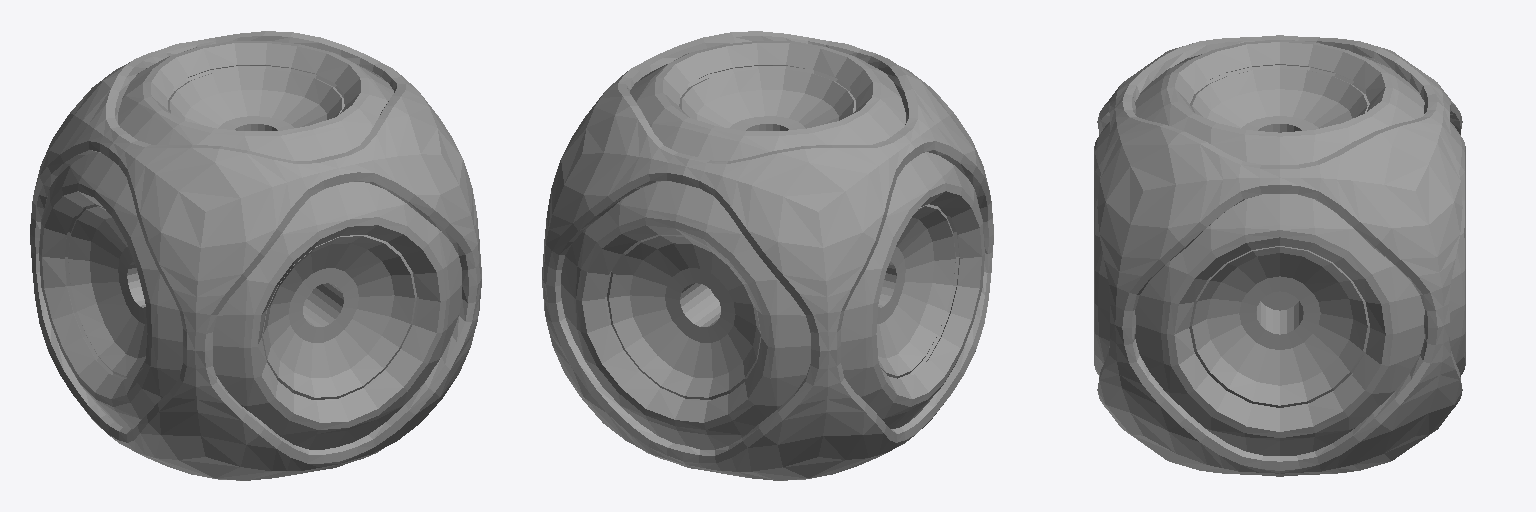
File: PortalProps06.obj
3 renders of one model, left to right at view 1: azimuth 30°, elevation 25°; view 2: azimuth 150°, elevation 25°; view 3: azimuth 270°, elevation 25°, orthographic.
Visible parts, largest first — view 1: PortalProps06a_PortalProps06a_low_Roundcube.000, PortalProps06b_PortalProps06b_low_Roundcube.001; view 2: PortalProps06a_PortalProps06a_low_Roundcube.000, PortalProps06b_PortalProps06b_low_Roundcube.001; view 3: PortalProps06a_PortalProps06a_low_Roundcube.000, PortalProps06b_PortalProps06b_low_Roundcube.001.
Boxes of the visible parts, x1,y1,x2,y2 form: PortalProps06a_PortalProps06a_low_Roundcube.000: [39, 41, 461, 449]; PortalProps06b_PortalProps06b_low_Roundcube.001: [30, 31, 481, 480]; PortalProps06a_PortalProps06a_low_Roundcube.000: [561, 41, 984, 449]; PortalProps06b_PortalProps06b_low_Roundcube.001: [542, 31, 993, 480]; PortalProps06a_PortalProps06a_low_Roundcube.000: [1094, 40, 1465, 455]; PortalProps06b_PortalProps06b_low_Roundcube.001: [1097, 35, 1462, 476].
Bounding box in the file's own units: 0.2747 × 0.2747 × 0.2747.